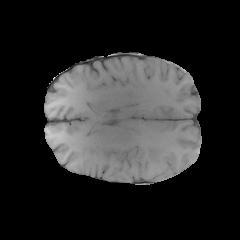glioma: (138, 144, 176, 171)
